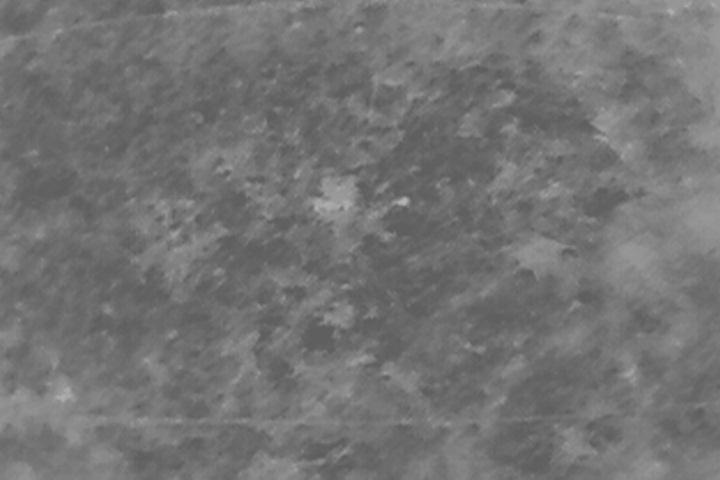landmine: (314, 182, 362, 224)
